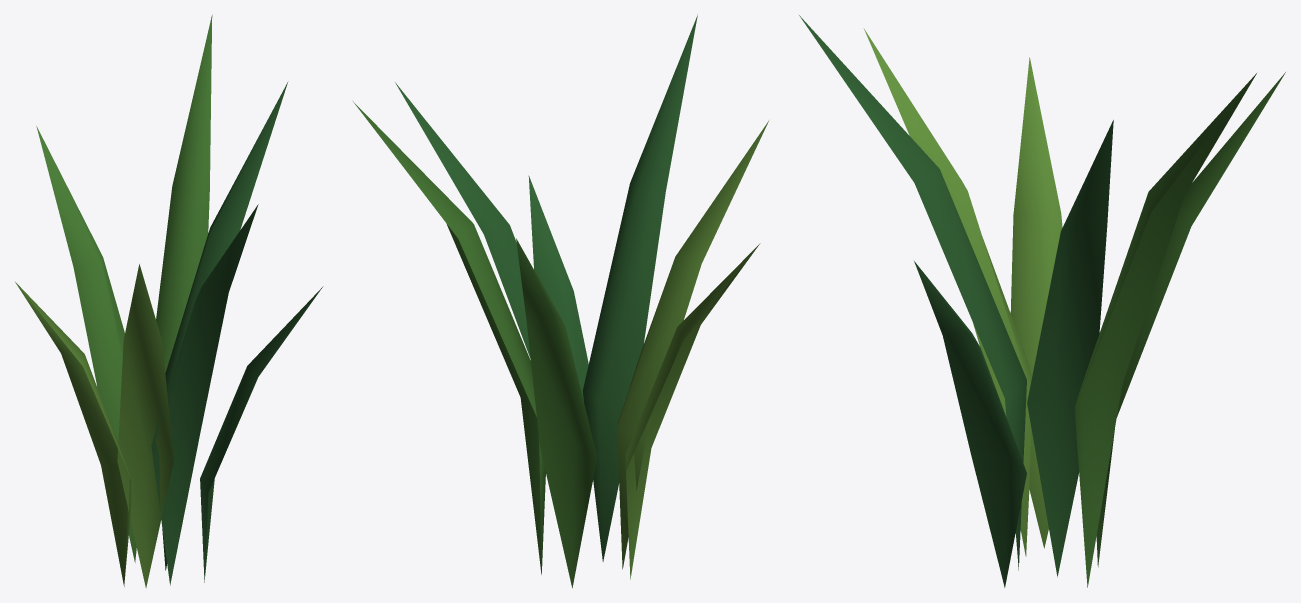
Rendered from grass_tall.glb.
The picture shows the model from 3 angles, left to right: view 1: azimuth 30°, elevation 25°; view 2: azimuth 150°, elevation 25°; view 3: azimuth 270°, elevation 25°; orthographic projection. The views are drawn at different scales.
Visible parts, largest first — view 1: grass_tall; view 2: grass_tall; view 3: grass_tall.
Part boxes in pixels (left/top/right/bottom): grass_tall: left=15, top=14, right=323, bottom=588; grass_tall: left=353, top=14, right=768, bottom=588; grass_tall: left=799, top=15, right=1285, bottom=587.
Bounding box in the file's own units: 0.637 × 0.9244 × 0.7022.
